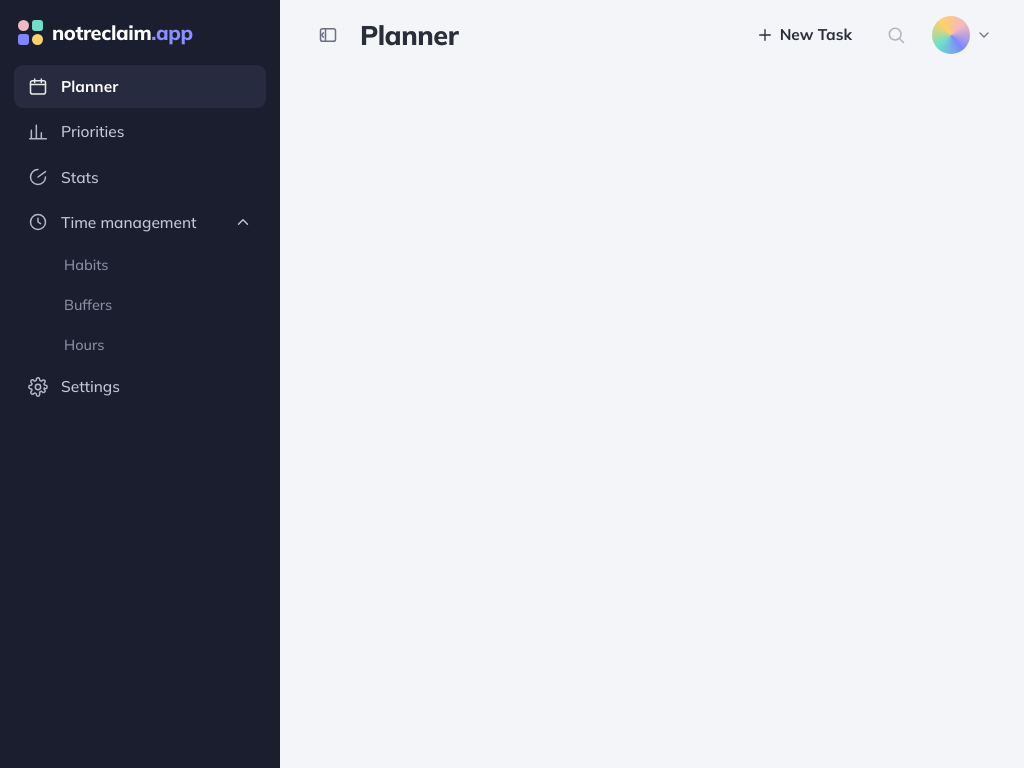
Scenario: AppShell sidebar toggle › hides the sidebar when the toggle button is clicked
Click the button with test id "toggle-sidebar" at (328, 35), box x1=310 y1=17 x2=346 y2=53
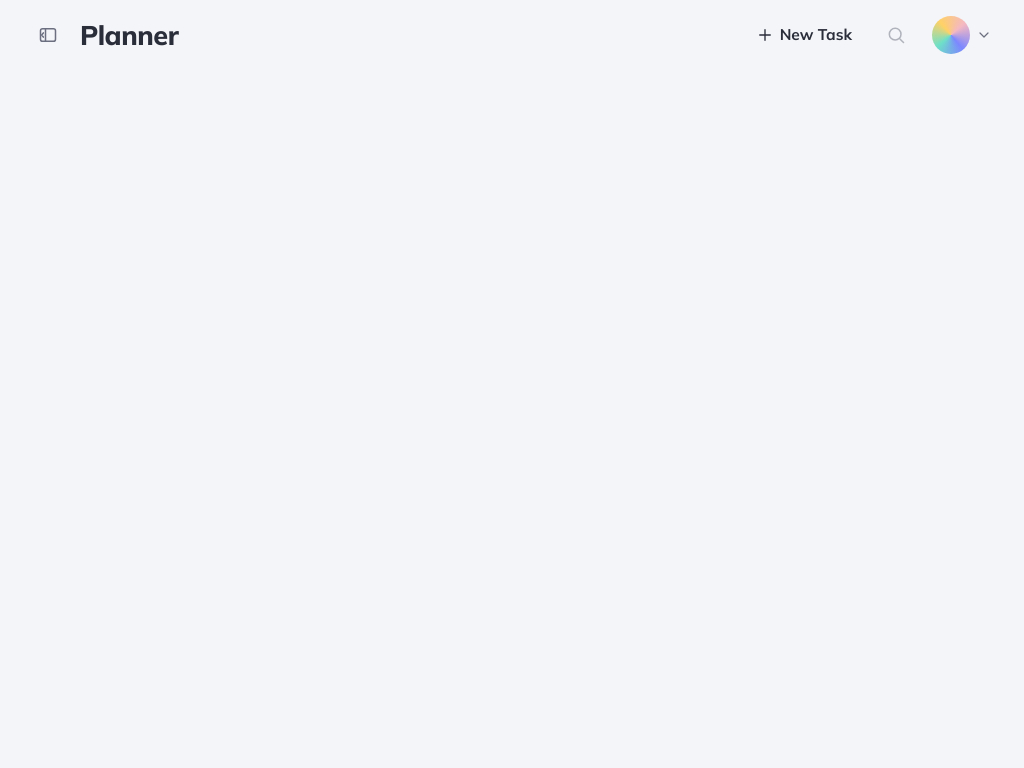
Expected: the element with test id "sidebar" is gone
